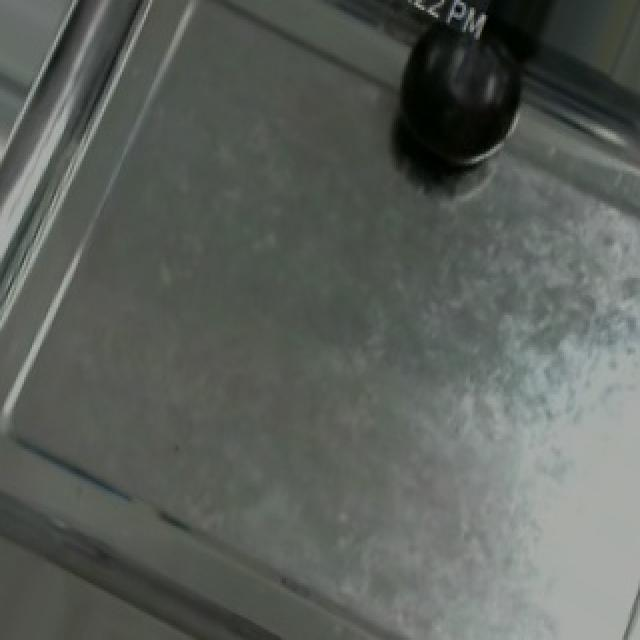Fruit: (378, 0, 546, 196)
